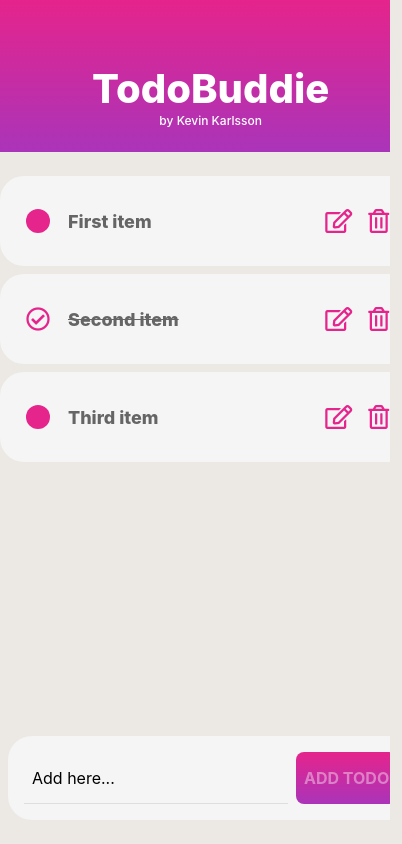
Test: TodoItem › should edit First item
Click the element with test id "edit-button" next to "First item".
click(339, 221)  # box [325,209,352,233]
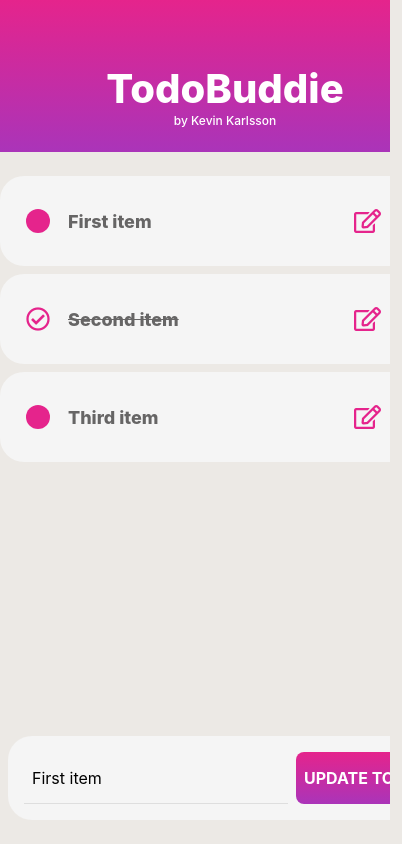
Replace the text in the field with test id "text-input" with "changed item" at [156, 778], box [24,752,288,804]
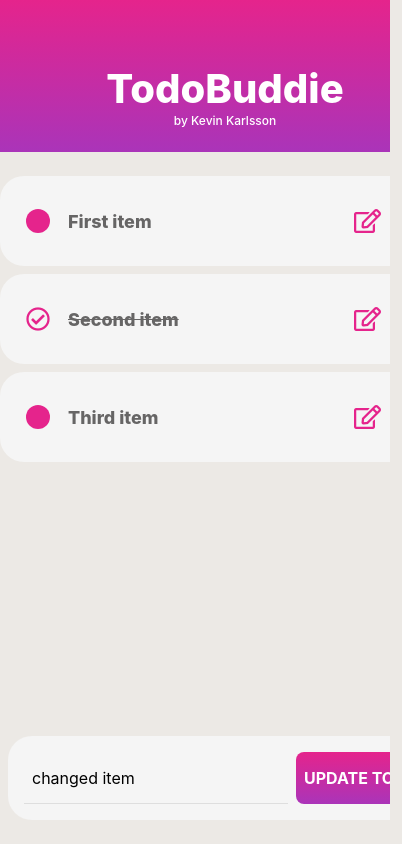
Click the element with test id "custom-button".
click(347, 778)  # box [304,768,390,788]
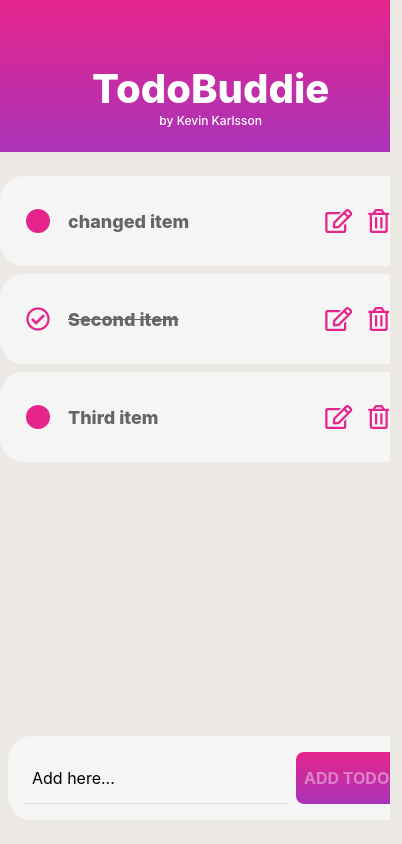
Expected: the text "changed item" is shown, [68,210,189,232]
